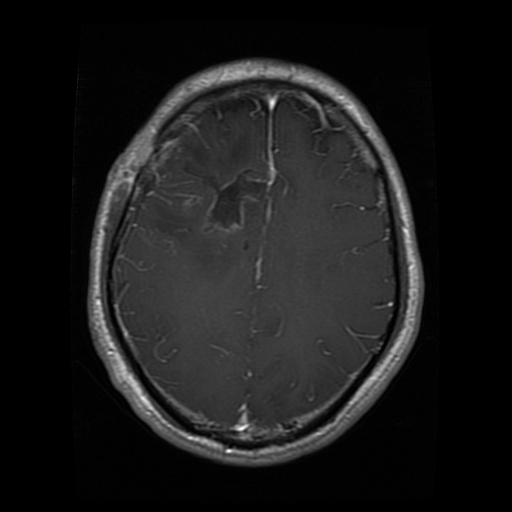glioma: (179, 161, 273, 236)
